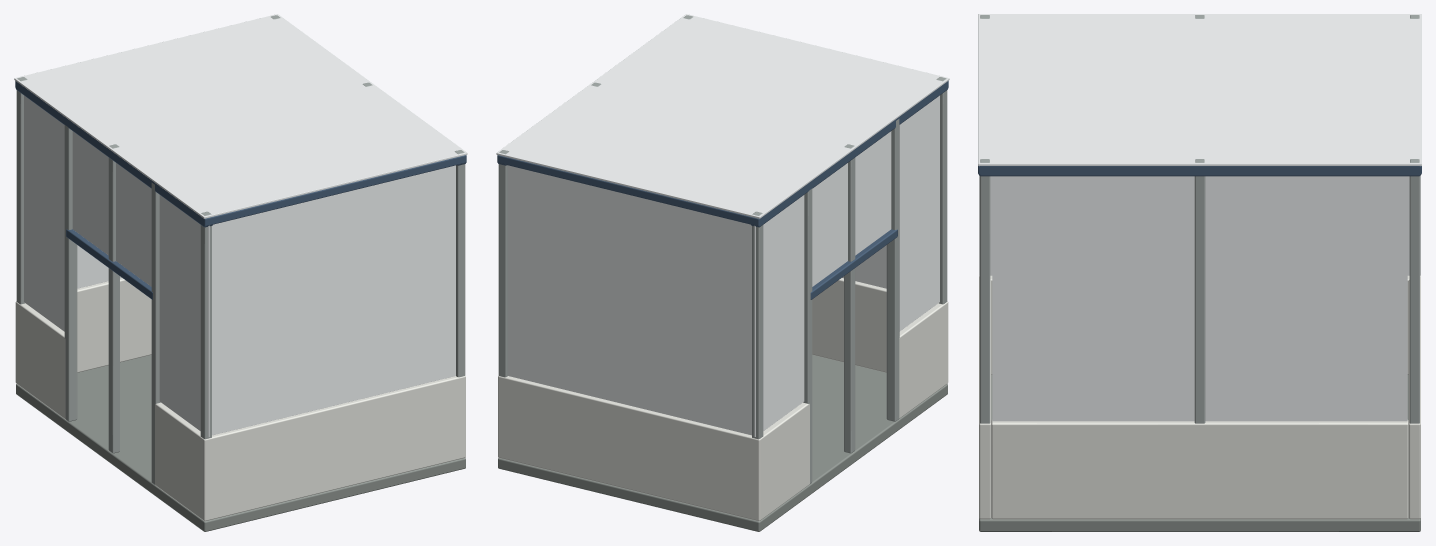
File: spacecraft-parachute-packing-hall-spacecraft-parachute-7f4ce995__32075.glb
3 renders of one model, left to right at view 1: azimuth 30°, elevation 25°; view 2: azimuth 150°, elevation 25°; view 3: azimuth 270°, elevation 25°, orthographic. The views are drawn at different scales.
Visible parts, largest first — view 1: spacecraft-parachute-packing-hall-glazed-inspection-annex; view 2: spacecraft-parachute-packing-hall-glazed-inspection-annex; view 3: spacecraft-parachute-packing-hall-glazed-inspection-annex.
Boxes of the visible parts, x1,y1,x2,y2 form: spacecraft-parachute-packing-hall-glazed-inspection-annex: (14,14,467,531); spacecraft-parachute-packing-hall-glazed-inspection-annex: (496,14,949,531); spacecraft-parachute-packing-hall-glazed-inspection-annex: (978,14,1421,531).
Size of the model in its own units: 4.02 by 4.61 by 5.02.
